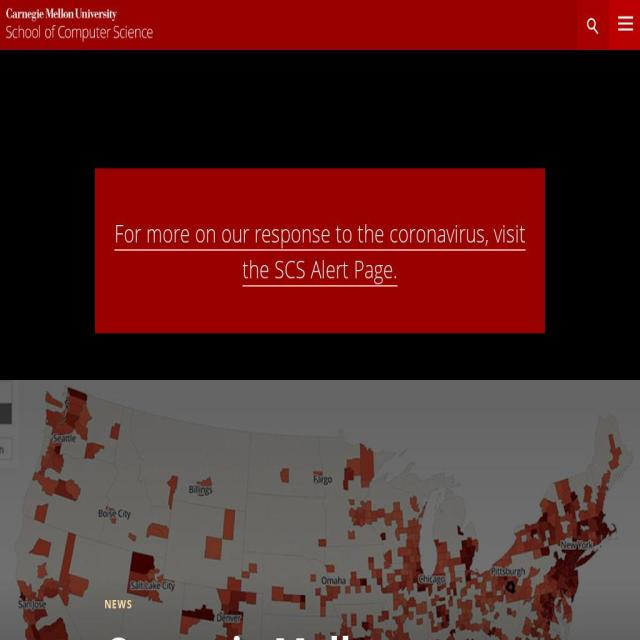button: (0, 380, 640, 640), (0, 0, 165, 50)
heading: (114, 216, 526, 286), (104, 622, 536, 640), (7, 8, 152, 42)
text: (17, 46, 640, 73), (104, 592, 536, 616)
